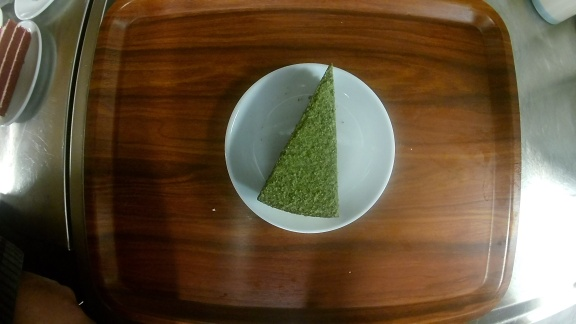fistiklipasta: (228, 63, 395, 232)
